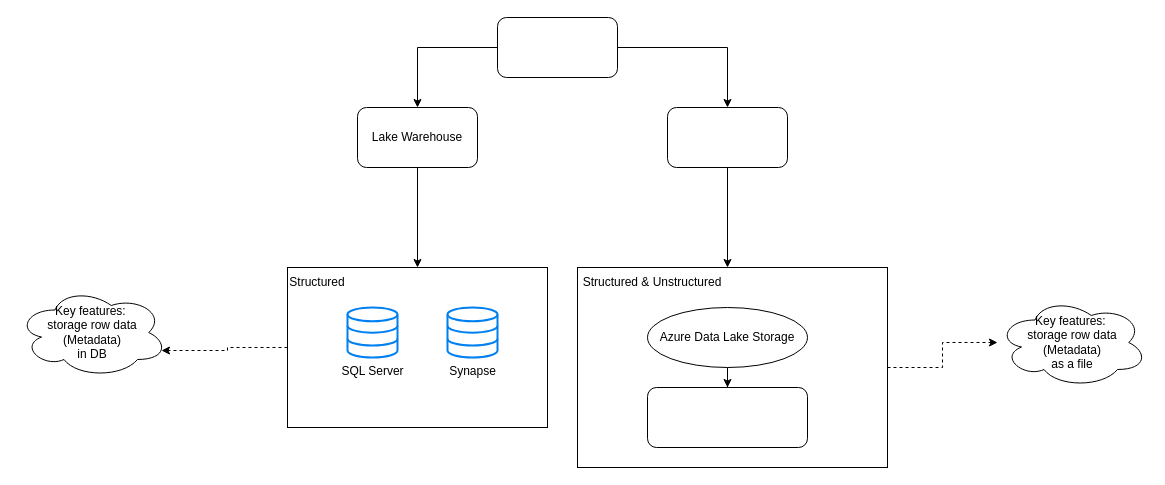
This 1165x485 diagram has some shape labels left out. The shapes that lost their labels are listed below. From the top down, each one's box as (x1, y1, x2, y2) in pixels, then its label:
(496, 16, 618, 78): Databrick
(666, 106, 788, 168): Delta Lake
(646, 386, 808, 448): Azure S torage Account Blob
